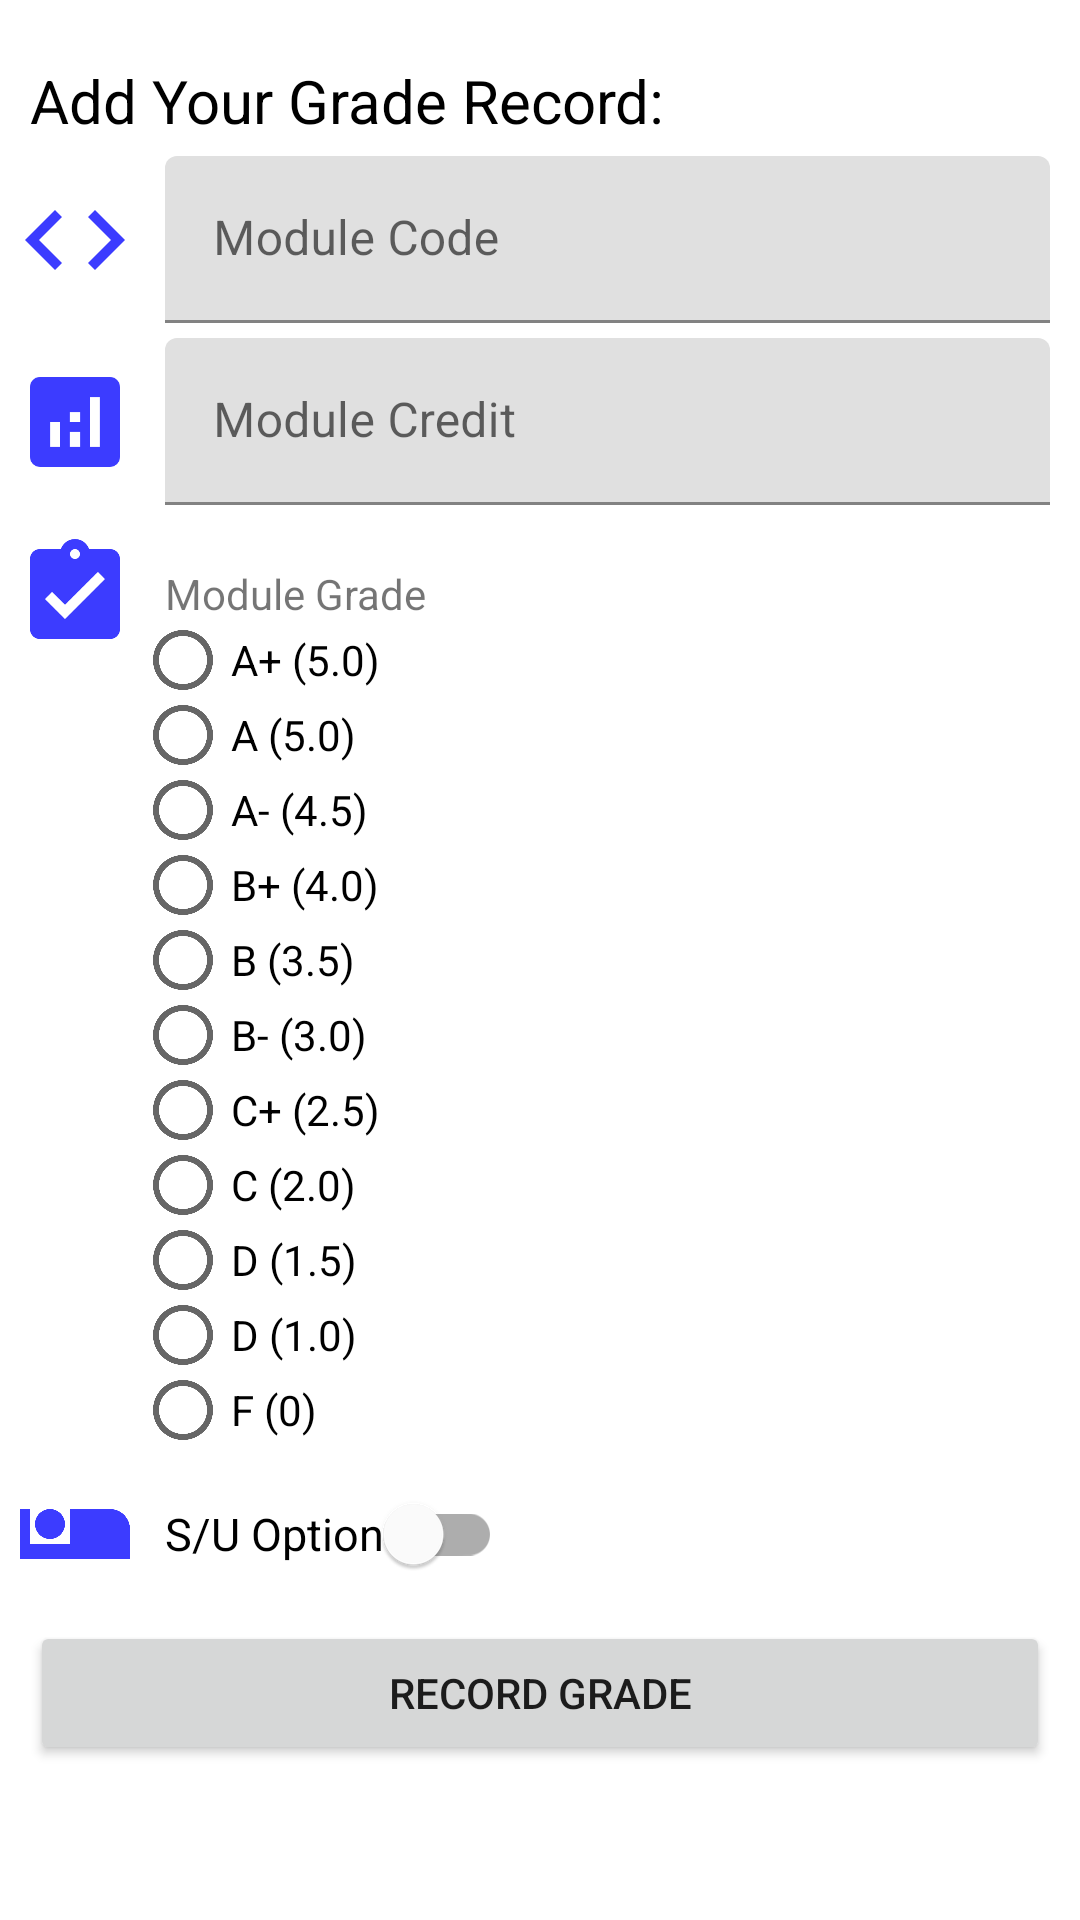

Point at icon controls on the screen. Image size 1080 × 1920, points as [x,y].
airline seat individual suite: [75,1534]
analytics: [75,422]
